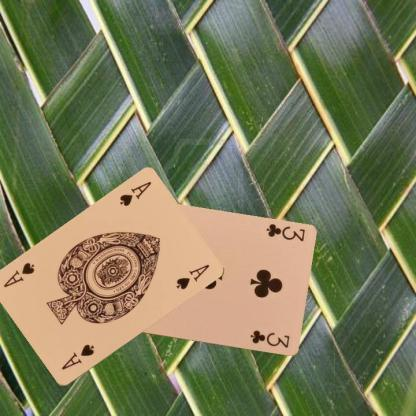3c: (262, 221, 306, 243)
As: (58, 341, 96, 372), (116, 179, 152, 208)
